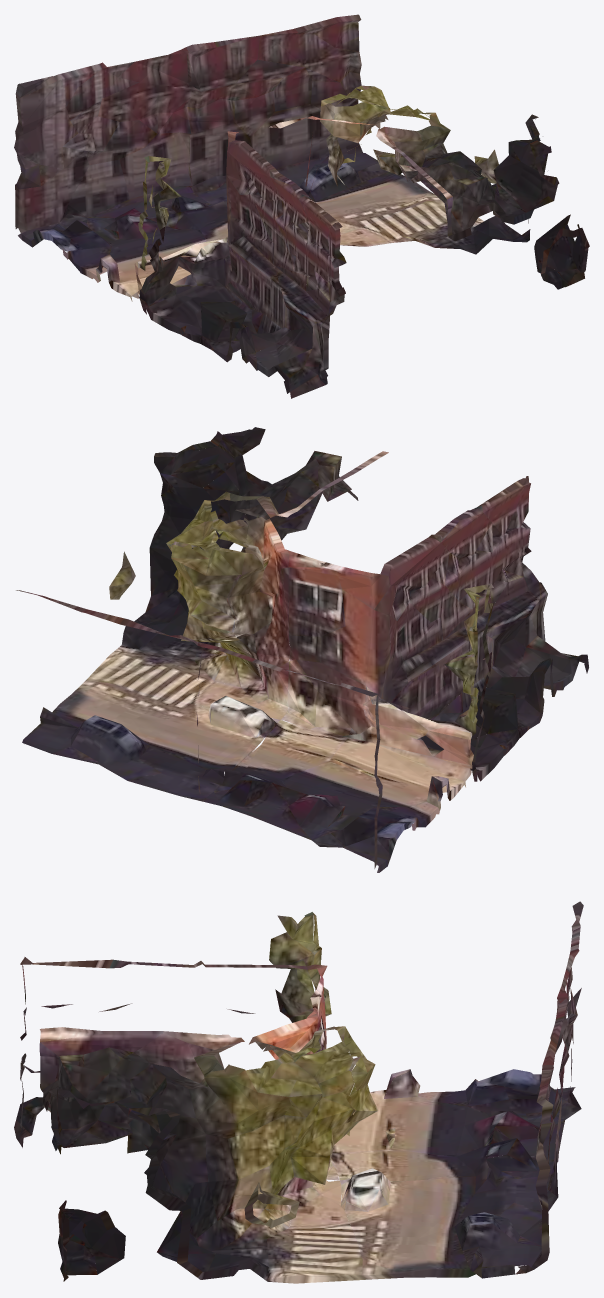
3 renders of one model, top to bottom at view 1: azimuth 30°, elevation 25°; view 2: azimuth 150°, elevation 25°; view 3: azimuth 270°, elevation 25°, orthographic. The views are drawn at different scales.
Parts seen in each view (by area): view 1: Mesh_0; view 2: Mesh_0; view 3: Mesh_0.
Part boxes in pixels (<box>): Mesh_0: <box>14,14,589,398</box>; Mesh_0: <box>16,427,588,872</box>; Mesh_0: <box>14,901,583,1283</box>.
Size of the model in its own units: 33.32 by 14.28 by 36.55.
Materials: 2 (2 with a texture image).
